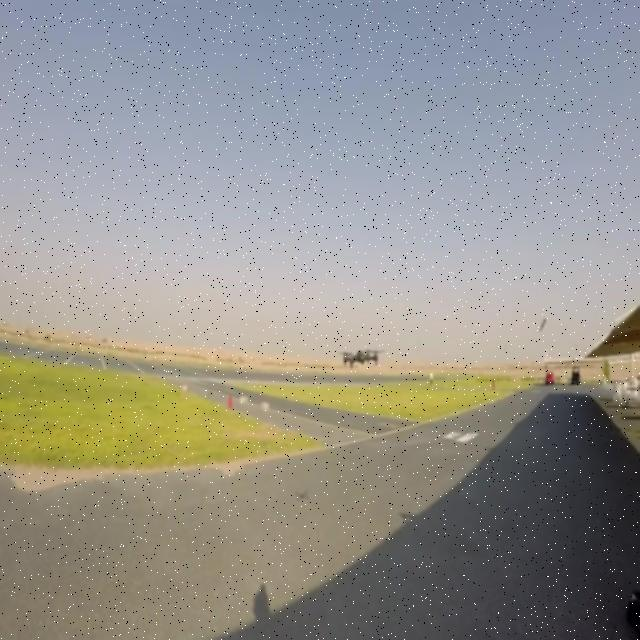UAV: (338, 349, 385, 370)
